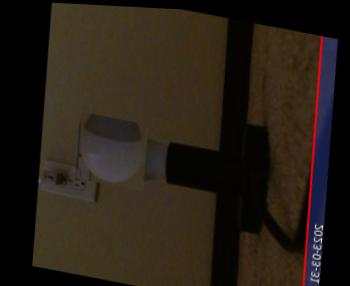Fan: (69, 112, 148, 190)
